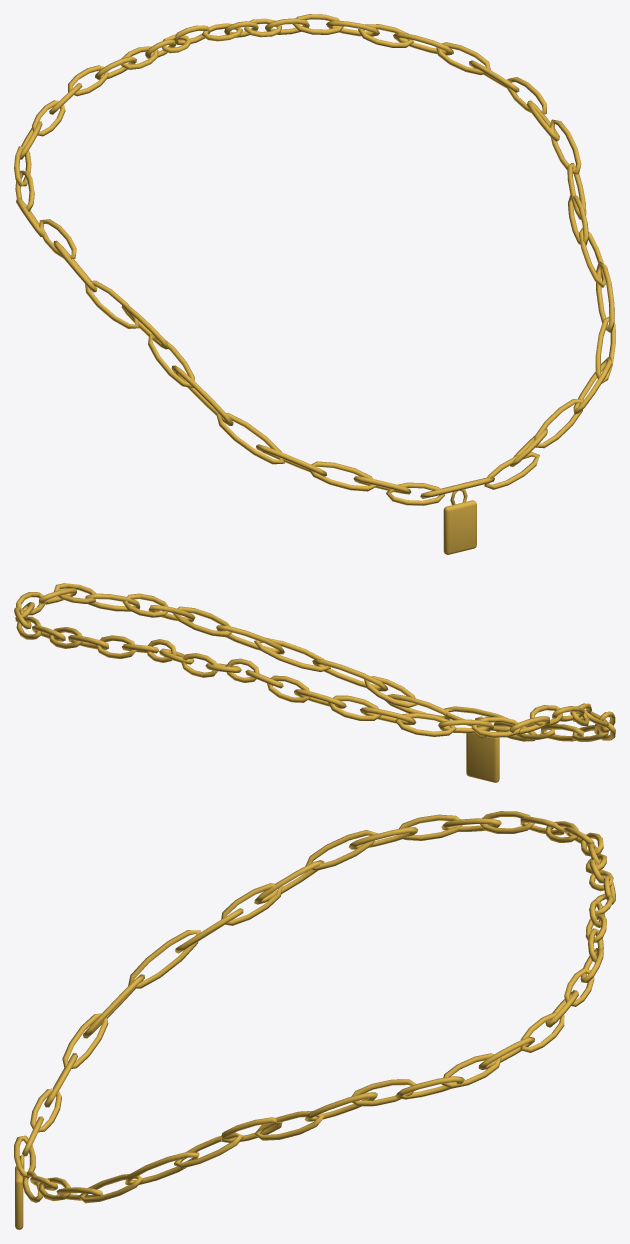
Rendered from lancuch.glb.
3 views of the same model, one above another, from view 1: azimuth 30°, elevation 25°; view 2: azimuth 150°, elevation 25°; view 3: azimuth 270°, elevation 25° (orthographic). The views are drawn at different scales.
Parts seen in each view (by area): view 1: ogniwo; view 2: ogniwo; view 3: ogniwo.
Part boxes in pixels (left/top/right/bottom): ogniwo: left=14, top=14, right=615, bottom=554; ogniwo: left=14, top=583, right=615, bottom=782; ogniwo: left=14, top=811, right=615, bottom=1229.
Size of the model in its own units: 0.2257 by 0.1358 by 0.2139.
